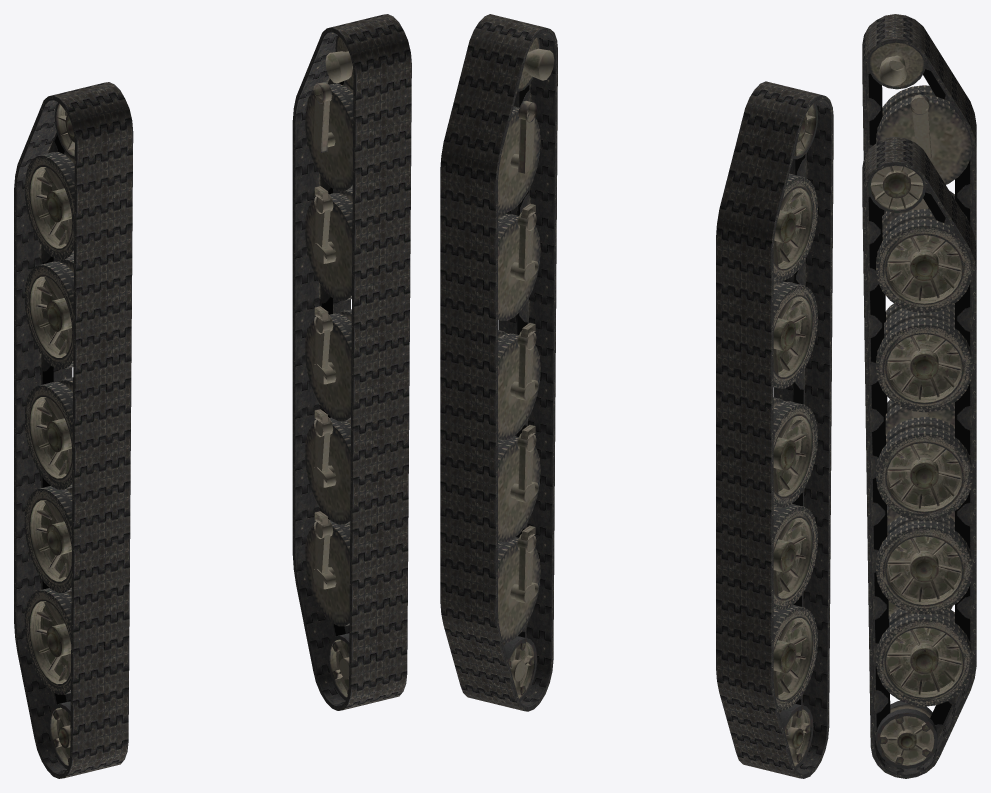
The model's file is Chassis.glb.
3 renders of one model, left to right at view 1: azimuth 30°, elevation 25°; view 2: azimuth 150°, elevation 25°; view 3: azimuth 270°, elevation 25°, orthographic. The views are drawn at different scales.
Parts seen in each view (by area): view 1: set_1_group_0, set_0_group_0, set_3_group_0, set_2_group_0; view 2: set_0_group_0, set_1_group_0, set_2_group_0, set_3_group_0; view 3: set_2_group_0, set_1_group_0, set_3_group_0, set_0_group_0.
Part boxes in pixels (x1=…): set_1_group_0: x1=292, y1=14, x2=411, y2=710; set_0_group_0: x1=14, y1=82, x2=133, y2=778; set_3_group_0: x1=24, y1=102, x2=74, y2=768; set_2_group_0: x1=305, y1=35, x2=353, y2=700; set_0_group_0: x1=716, y1=81, x2=833, y2=778; set_1_group_0: x1=440, y1=14, x2=557, y2=711; set_2_group_0: x1=498, y1=36, x2=554, y2=701; set_3_group_0: x1=773, y1=102, x2=817, y2=769; set_2_group_0: x1=867, y1=165, x2=972, y2=768; set_1_group_0: x1=862, y1=137, x2=976, y2=778; set_3_group_0: x1=867, y1=42, x2=972, y2=616; set_0_group_0: x1=862, y1=14, x2=976, y2=609.
Bounding box in the file's own units: 2.99 × 5.83 × 0.9796.
4 materials, 4 textured.
